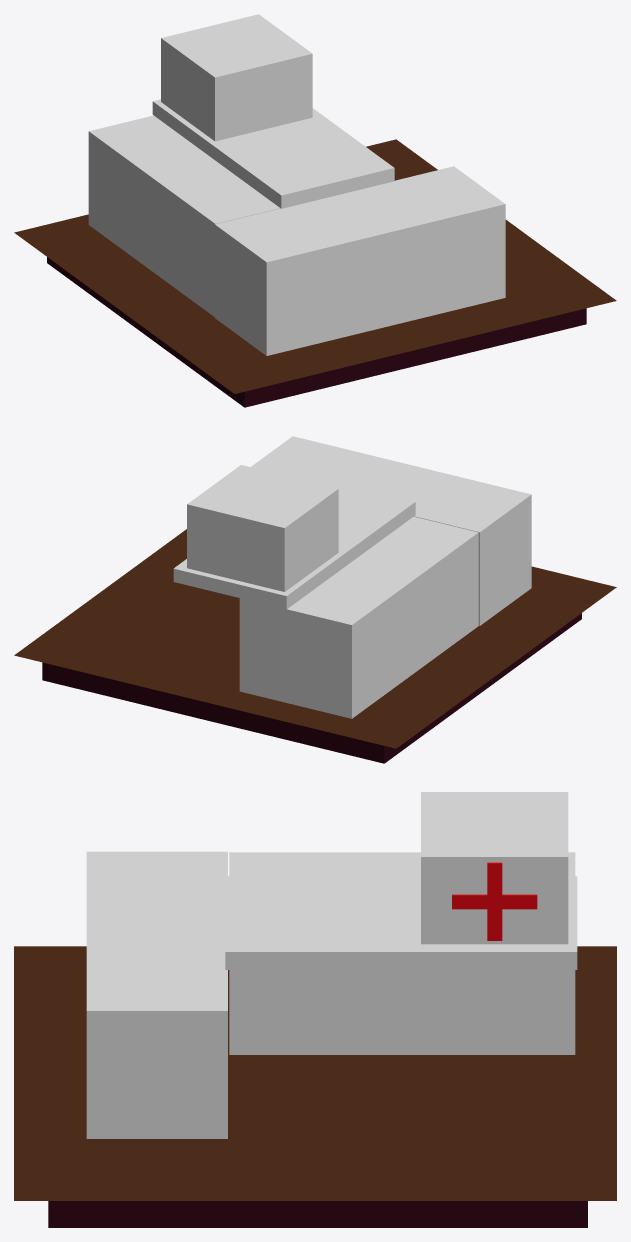
Rendered from Hospital.fbx.
The picture shows the model from 3 angles, top to bottom: view 1: azimuth 30°, elevation 25°; view 2: azimuth 150°, elevation 25°; view 3: azimuth 270°, elevation 25°; orthographic projection. The views are drawn at different scales.
Visible parts, largest first — view 1: Cube, Plane, Cube.001, Cube.004, Cube.003, Cube.002; view 2: Plane, Cube.001, Cube, Cube.004, Cube.002, Cube.003; view 3: Plane, Cube, Cube.001, Cube.003, Cube.004, Cube.002, Cube.006, Cube.005.
Boxes of the visible parts, x1,y1,x2,y2 form: Cube: [215, 166, 505, 355]; Plane: [14, 139, 616, 393]; Cube.001: [88, 115, 280, 316]; Cube.004: [161, 14, 312, 141]; Cube.003: [152, 99, 394, 208]; Cube.002: [47, 257, 586, 407]; Plane: [14, 529, 616, 748]; Cube.001: [239, 516, 478, 718]; Cube: [251, 436, 531, 625]; Cube.004: [187, 465, 338, 591]; Cube.002: [42, 613, 581, 763]; Cube.003: [173, 474, 415, 609]; Plane: [14, 946, 616, 1200]; Cube: [86, 851, 227, 1138]; Cube.001: [229, 852, 575, 1054]; Cube.003: [225, 876, 577, 969]; Cube.004: [421, 792, 568, 944]; Cube.002: [48, 1201, 587, 1227]; Cube.006: [452, 894, 537, 909]; Cube.005: [487, 862, 502, 940].
Size of the model in its own units: 854 by 436 by 854.
